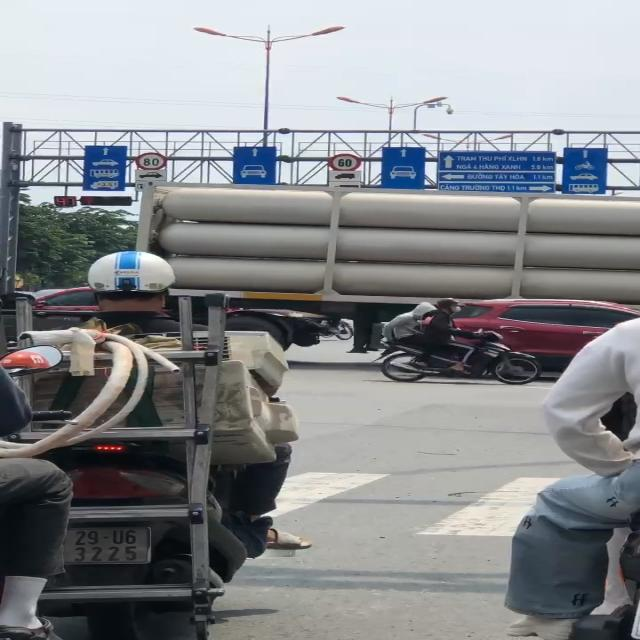Bien bao toc do toi da cho phep: (324, 149, 370, 173), (131, 150, 171, 172)
